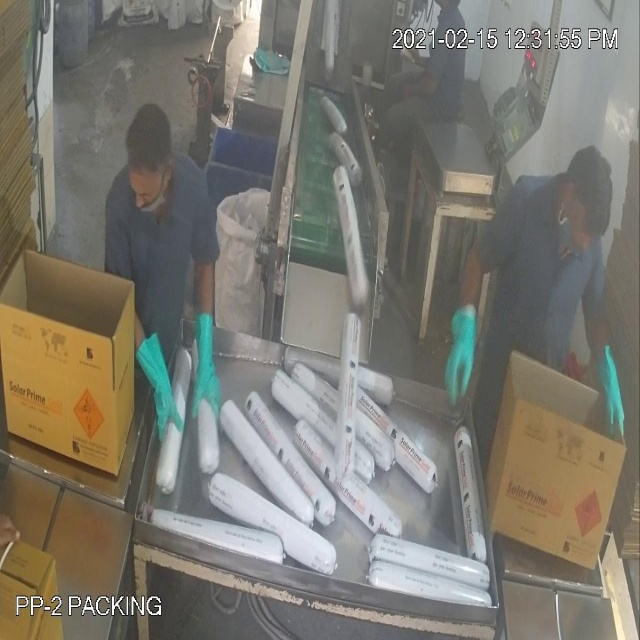Guantes: (128, 316, 189, 451), (175, 303, 236, 426), (578, 326, 631, 448), (436, 299, 487, 416)
